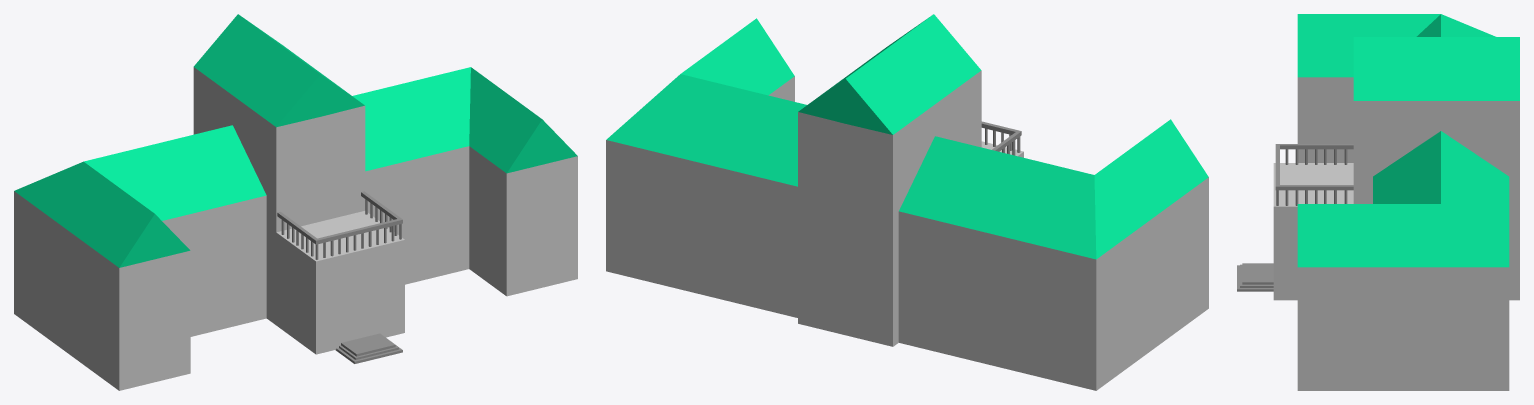
Rendered from Mansion.fbx.
3 renders of one model, left to right at view 1: azimuth 30°, elevation 25°; view 2: azimuth 150°, elevation 25°; view 3: azimuth 270°, elevation 25°, orthographic. The views are drawn at different scales.
Parts seen in each view (by area): view 1: Cube.001; view 2: Cube.001; view 3: Cube.001.
Part boxes in pixels (x1,y1,x2,y2): Cube.001: [14, 14, 577, 390]; Cube.001: [606, 14, 1208, 390]; Cube.001: [1237, 14, 1519, 390].
Size of the model in its own units: 7245 by 3643 by 3849.
